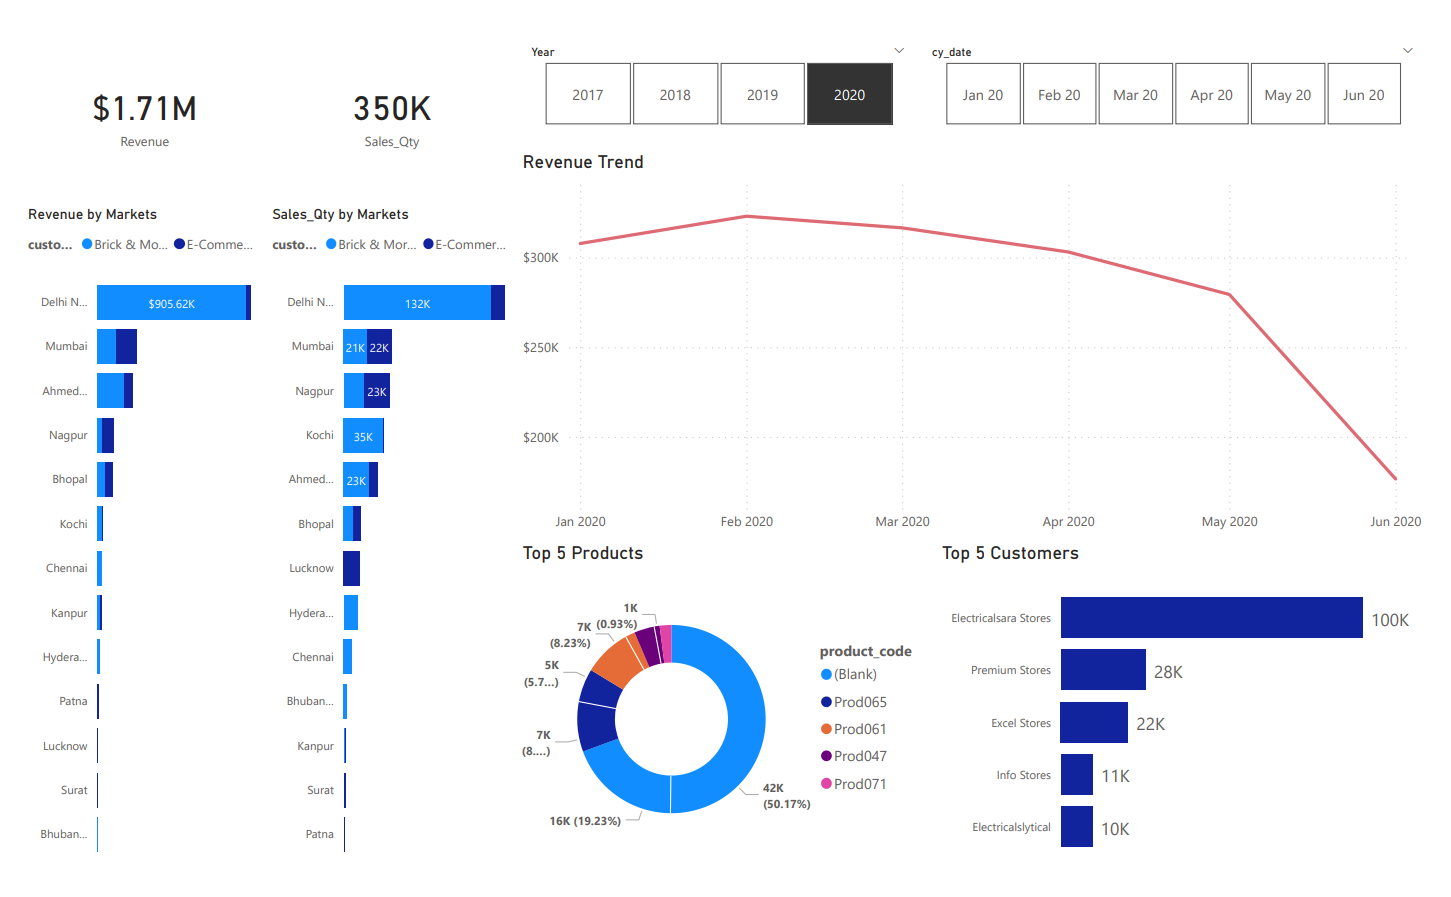

The page's visual inventory and layout, read from the dashboard file:
{"tool":"powerbi","page":{"name":"Page 1","canvas":[1100,700],"ordinal":0},"visuals":[{"type":"card","fields":{"Values":["BaseMeasures.Revenue"]},"box":[0,0,171.5,136.7],"z":0},{"type":"barChart","title":"Revenue by Markets","fields":{"Y":["BaseMeasures.Revenue"],"Category":["sales markets.markets_name"]},"box":[0,136.4,171.8,530.9],"z":1000},{"type":"card","fields":{"Values":["BaseMeasures.Sales_Qty"]},"box":[171.5,0,161.1,136.7],"z":2000},{"type":"barChart","title":"Sales_Qty by Markets","fields":{"Y":["BaseMeasures.Sales_Qty"],"Category":["sales markets.markets_name"]},"box":[171.8,136.4,170.9,530.9],"z":3000},{"type":"slicer","title":"Year","fields":{"Values":["sales date.year"]},"box":[332.7,0,310,68.2],"z":4000},{"type":"slicer","title":"Year","fields":{"Values":["sales date.cy_date"]},"box":[642.7,0,450.9,68.2],"z":5000},{"type":"barChart","title":"Top 5 Customers","fields":{"Y":["BaseMeasures.Sales_Qty"],"Category":["sales customers.custmer_name"]},"box":[680,401.8,420,265.5],"z":6000},{"type":"barChart","title":"Top 5 Products","fields":{"Y":["BaseMeasures.Sales_Qty"],"Category":["sales products.product_code"]},"box":[358.2,401.8,321.8,265.5],"z":7000},{"type":"lineChart","title":"Revenue Trend","fields":{"Category":["sales date.cy_date"],"Y":["BaseMeasures.Revenue"]},"box":[358.2,81.8,741.8,307.3],"z":7001}]}

Visuals, with their boxes in screenshot pixels (x1, y1, x2, y2), scaled from the page's 1100x700 canvas onto the 1451x897 screenshot:
card - BaseMeasures.Revenue: region(0, 0, 226, 175)
"Revenue by Markets" barChart: region(0, 175, 227, 855)
card - BaseMeasures.Sales_Qty: region(226, 0, 439, 175)
"Sales_Qty by Markets" barChart: region(227, 175, 452, 855)
"Year" slicer: region(439, 0, 848, 87)
"Year" slicer: region(848, 0, 1443, 87)
"Top 5 Customers" barChart: region(897, 515, 1450, 855)
"Top 5 Products" barChart: region(472, 515, 897, 855)
"Revenue Trend" lineChart: region(472, 105, 1450, 499)
